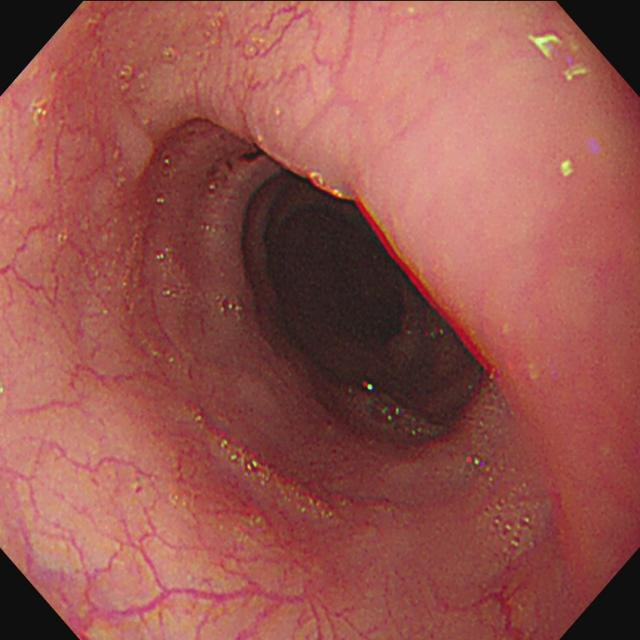D: (227, 148, 266, 172)
E: (278, 209, 404, 339)
T: (486, 501, 536, 553)
U: (529, 34, 589, 83)
